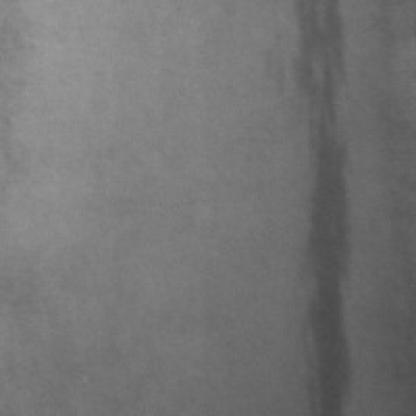inclusion: (274, 4, 354, 416)
